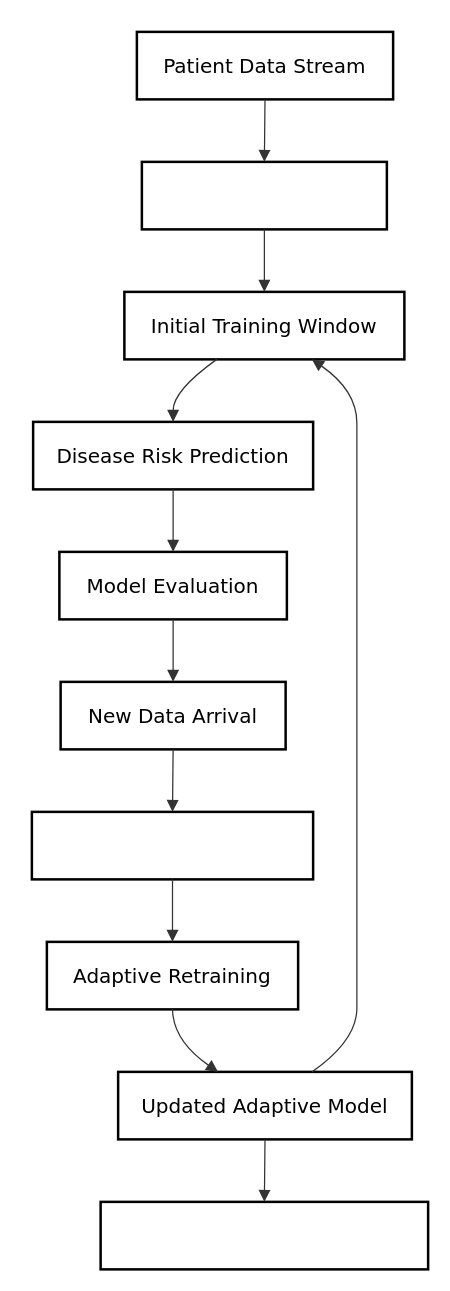
Image size: 450x1291. Some labels were removed from this diagram. Each missing label, with the box of its shape:
Data Preprocessing: (140, 160, 388, 230)
Early Disease Risk Detection: (99, 1200, 429, 1270)
Sliding Window Update: (30, 810, 314, 880)
